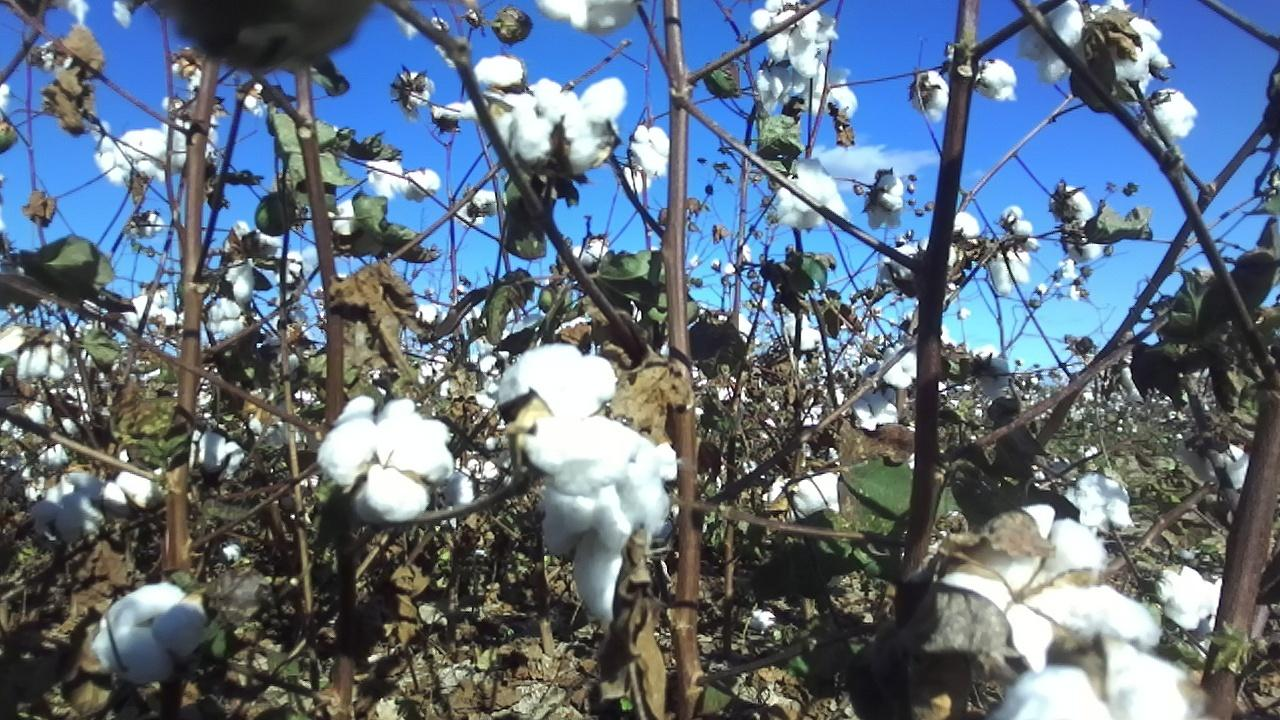cotton_ready: (945, 502, 1161, 674), (525, 414, 667, 624), (994, 640, 1200, 720), (317, 417, 459, 529), (93, 582, 214, 686), (512, 76, 625, 170), (502, 344, 618, 422), (27, 469, 128, 546), (1081, 7, 1173, 84), (751, 0, 822, 79), (778, 156, 853, 230), (1157, 566, 1227, 634), (1067, 474, 1134, 530), (1143, 89, 1200, 148), (533, 0, 638, 31), (329, 395, 424, 427)
